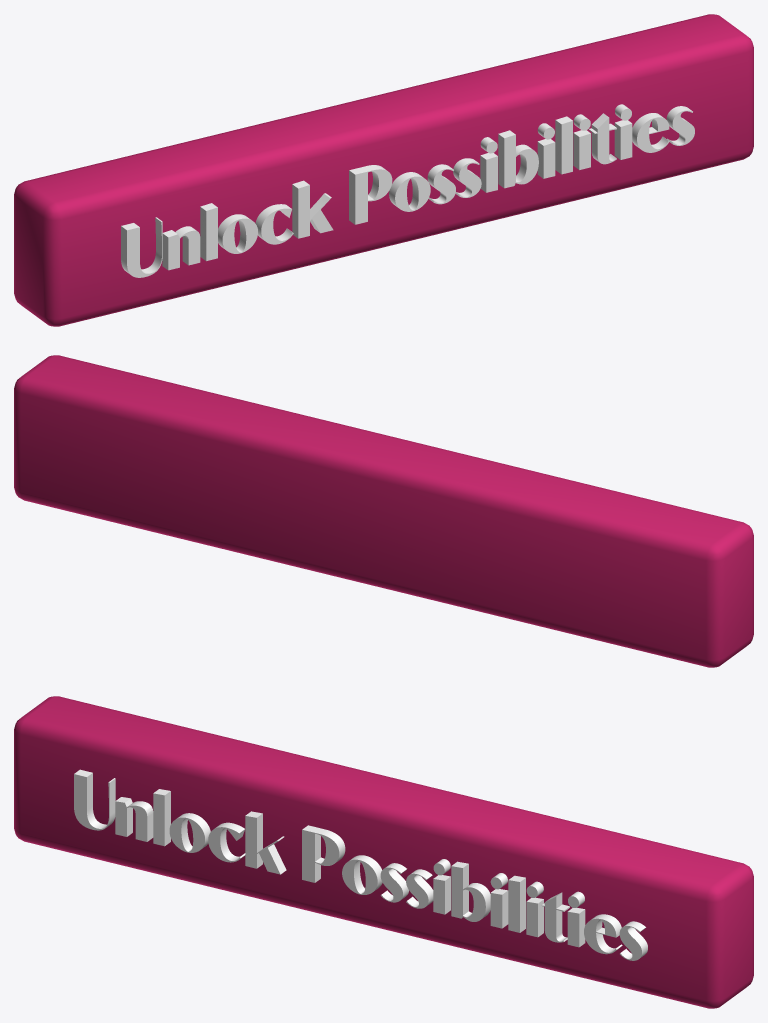
Rendered from button.glb.
3 views of the same model, one above another, from view 1: azimuth 30°, elevation 25°; view 2: azimuth 150°, elevation 25°; view 3: azimuth 330°, elevation 25° (orthographic).
Visible parts, largest first — view 1: button, button_text; view 2: button; view 3: button, button_text.
Part boxes in pixels (x1=…): button: x1=14, y1=14, x2=753, y2=326; button_text: x1=121, y1=104, x2=694, y2=277; button: x1=14, y1=355, x2=753, y2=667; button: x1=14, y1=696, x2=753, y2=1008; button_text: x1=74, y1=769, x2=647, y2=960.
Bounding box in the file's own units: 3 × 0.5 × 0.3443.
